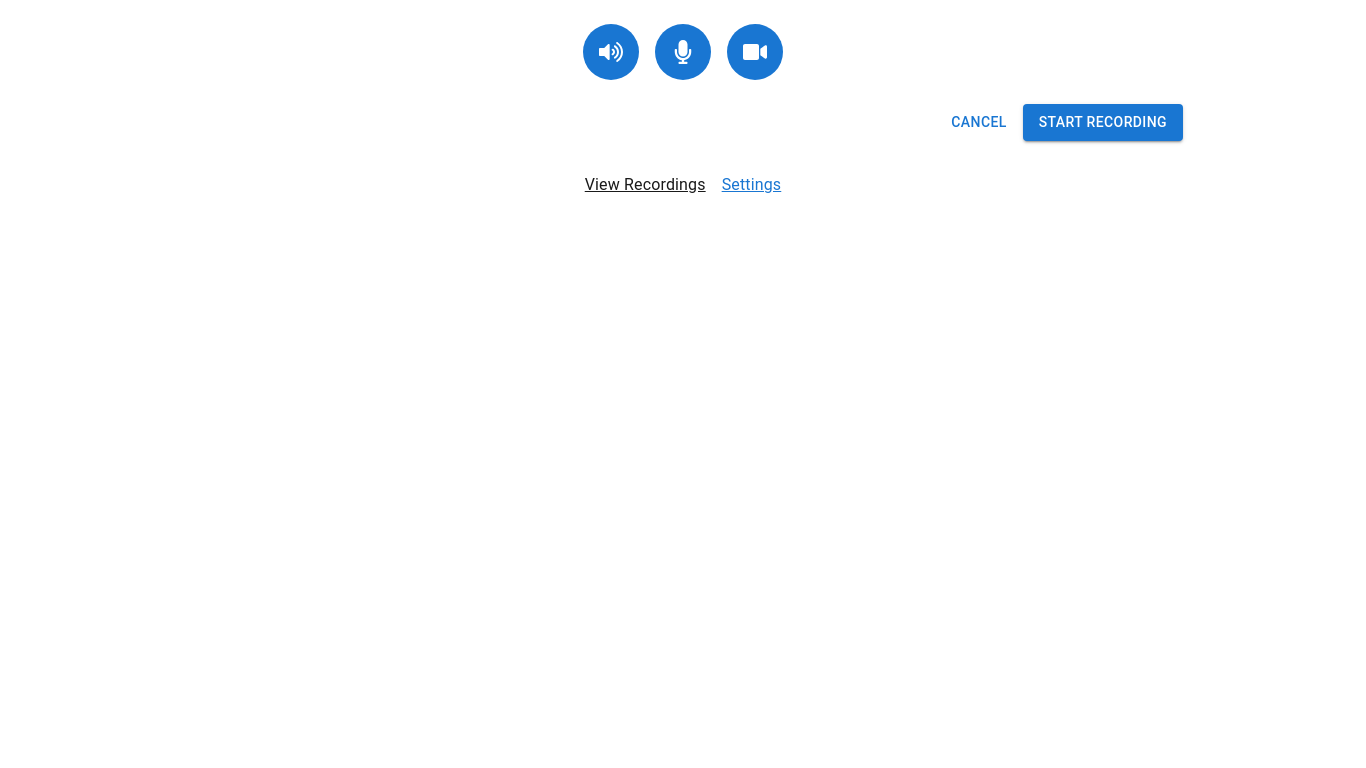
Test: Home.Desktop - Recording Naming Flow › saving with custom name › closes naming modal after save
This screenshot has width=1366, height=768.
Click the button "Start Recording".
click(1103, 122)  # box [1023,104,1183,140]
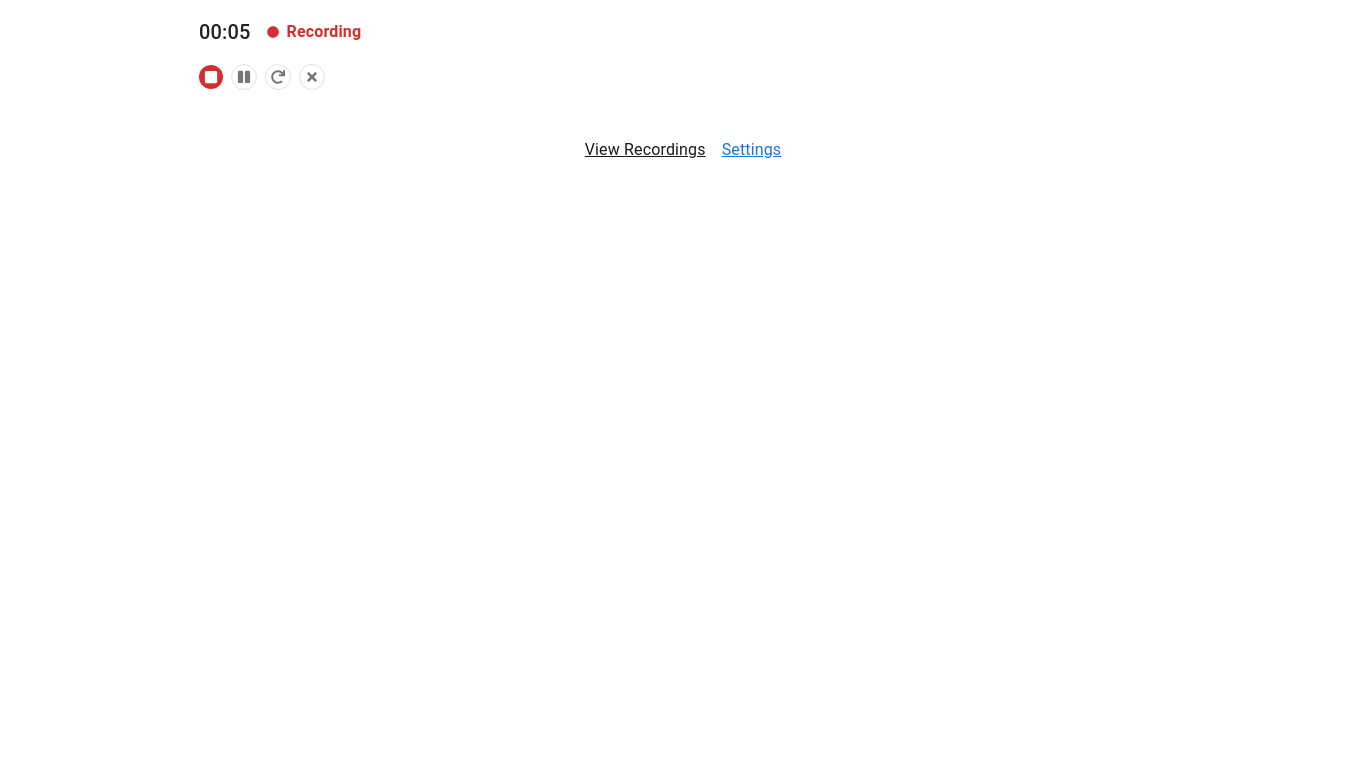
Result: the element with test id "recording-controls-modal" is shown at [199,20,361,90]
Click the button named "stop".
click(211, 77)  # box [199,65,223,89]
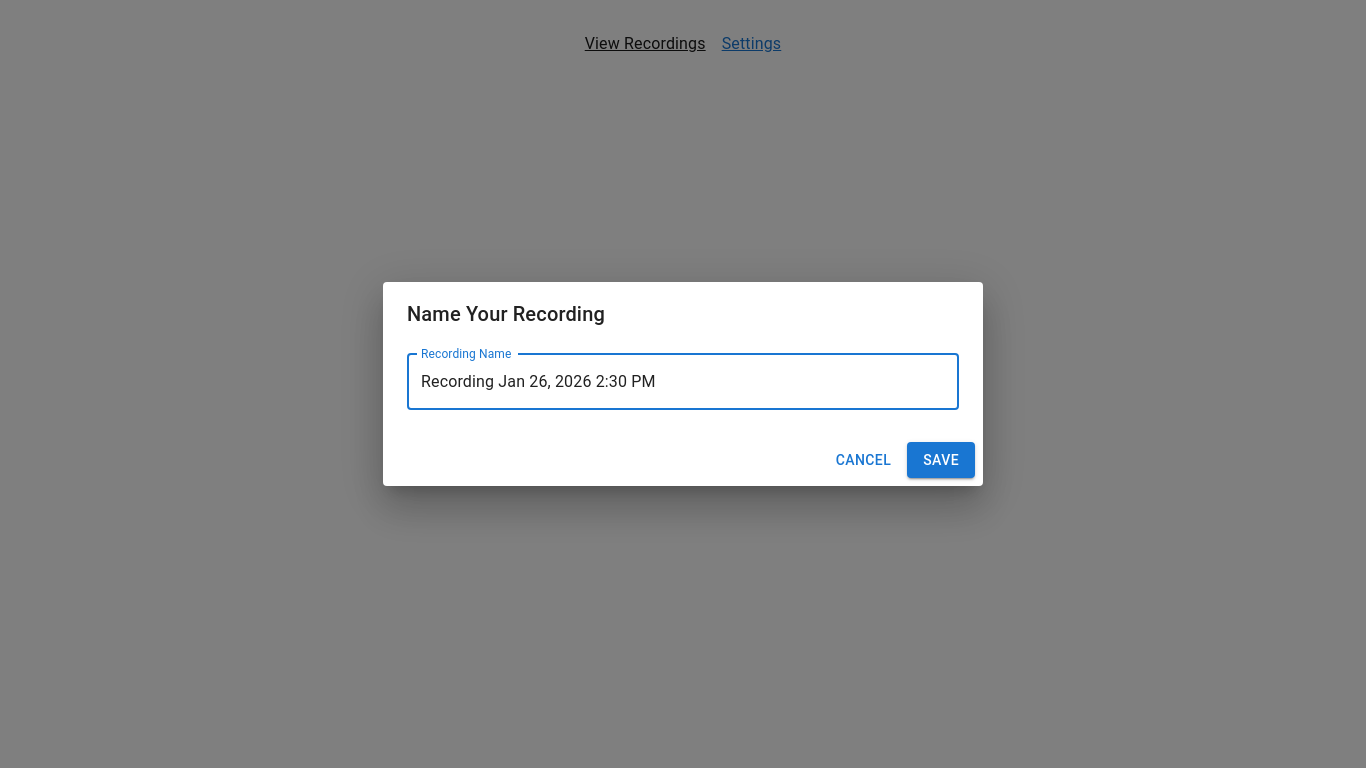
Result: the element with test id "recording-name-modal" is shown
Click the button "Save".
click(941, 460)  # box [907,442,975,478]
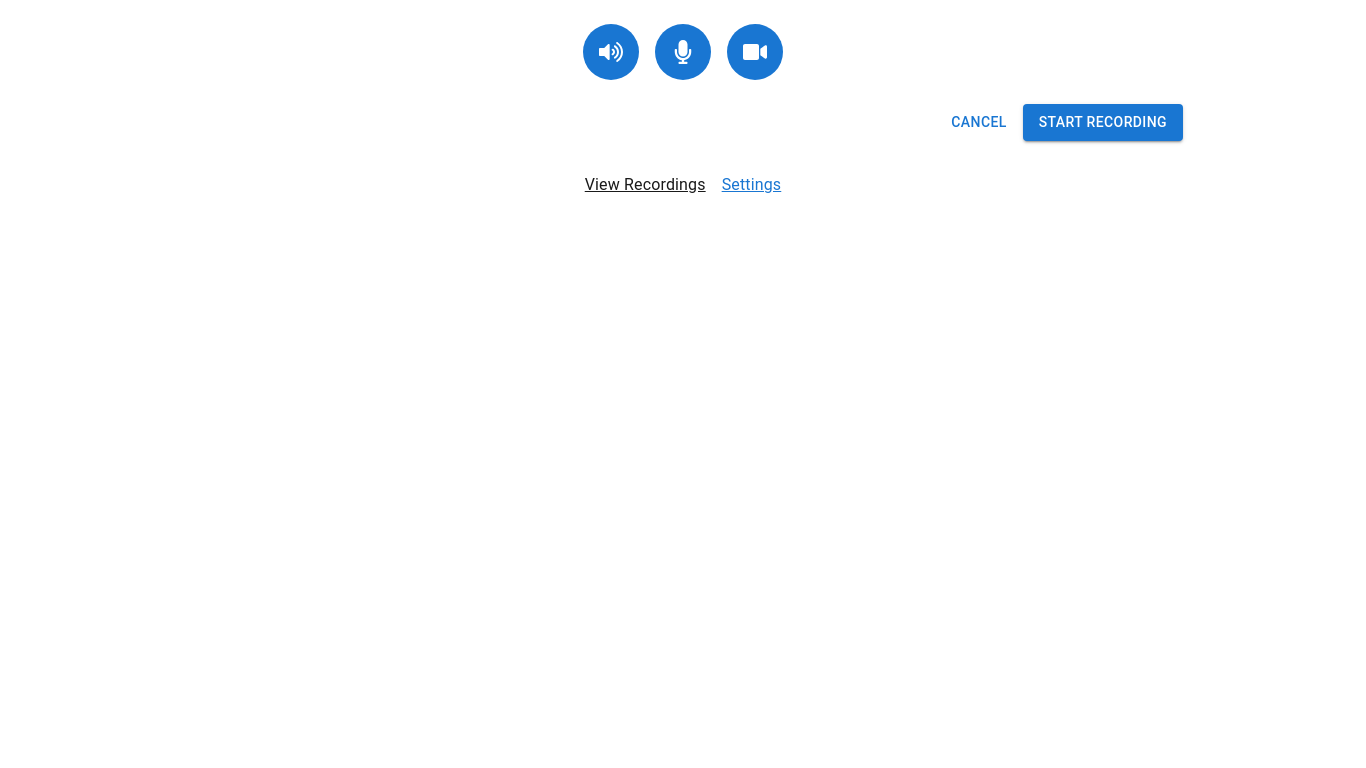
Result: the element with test id "recording-name-modal" is gone
